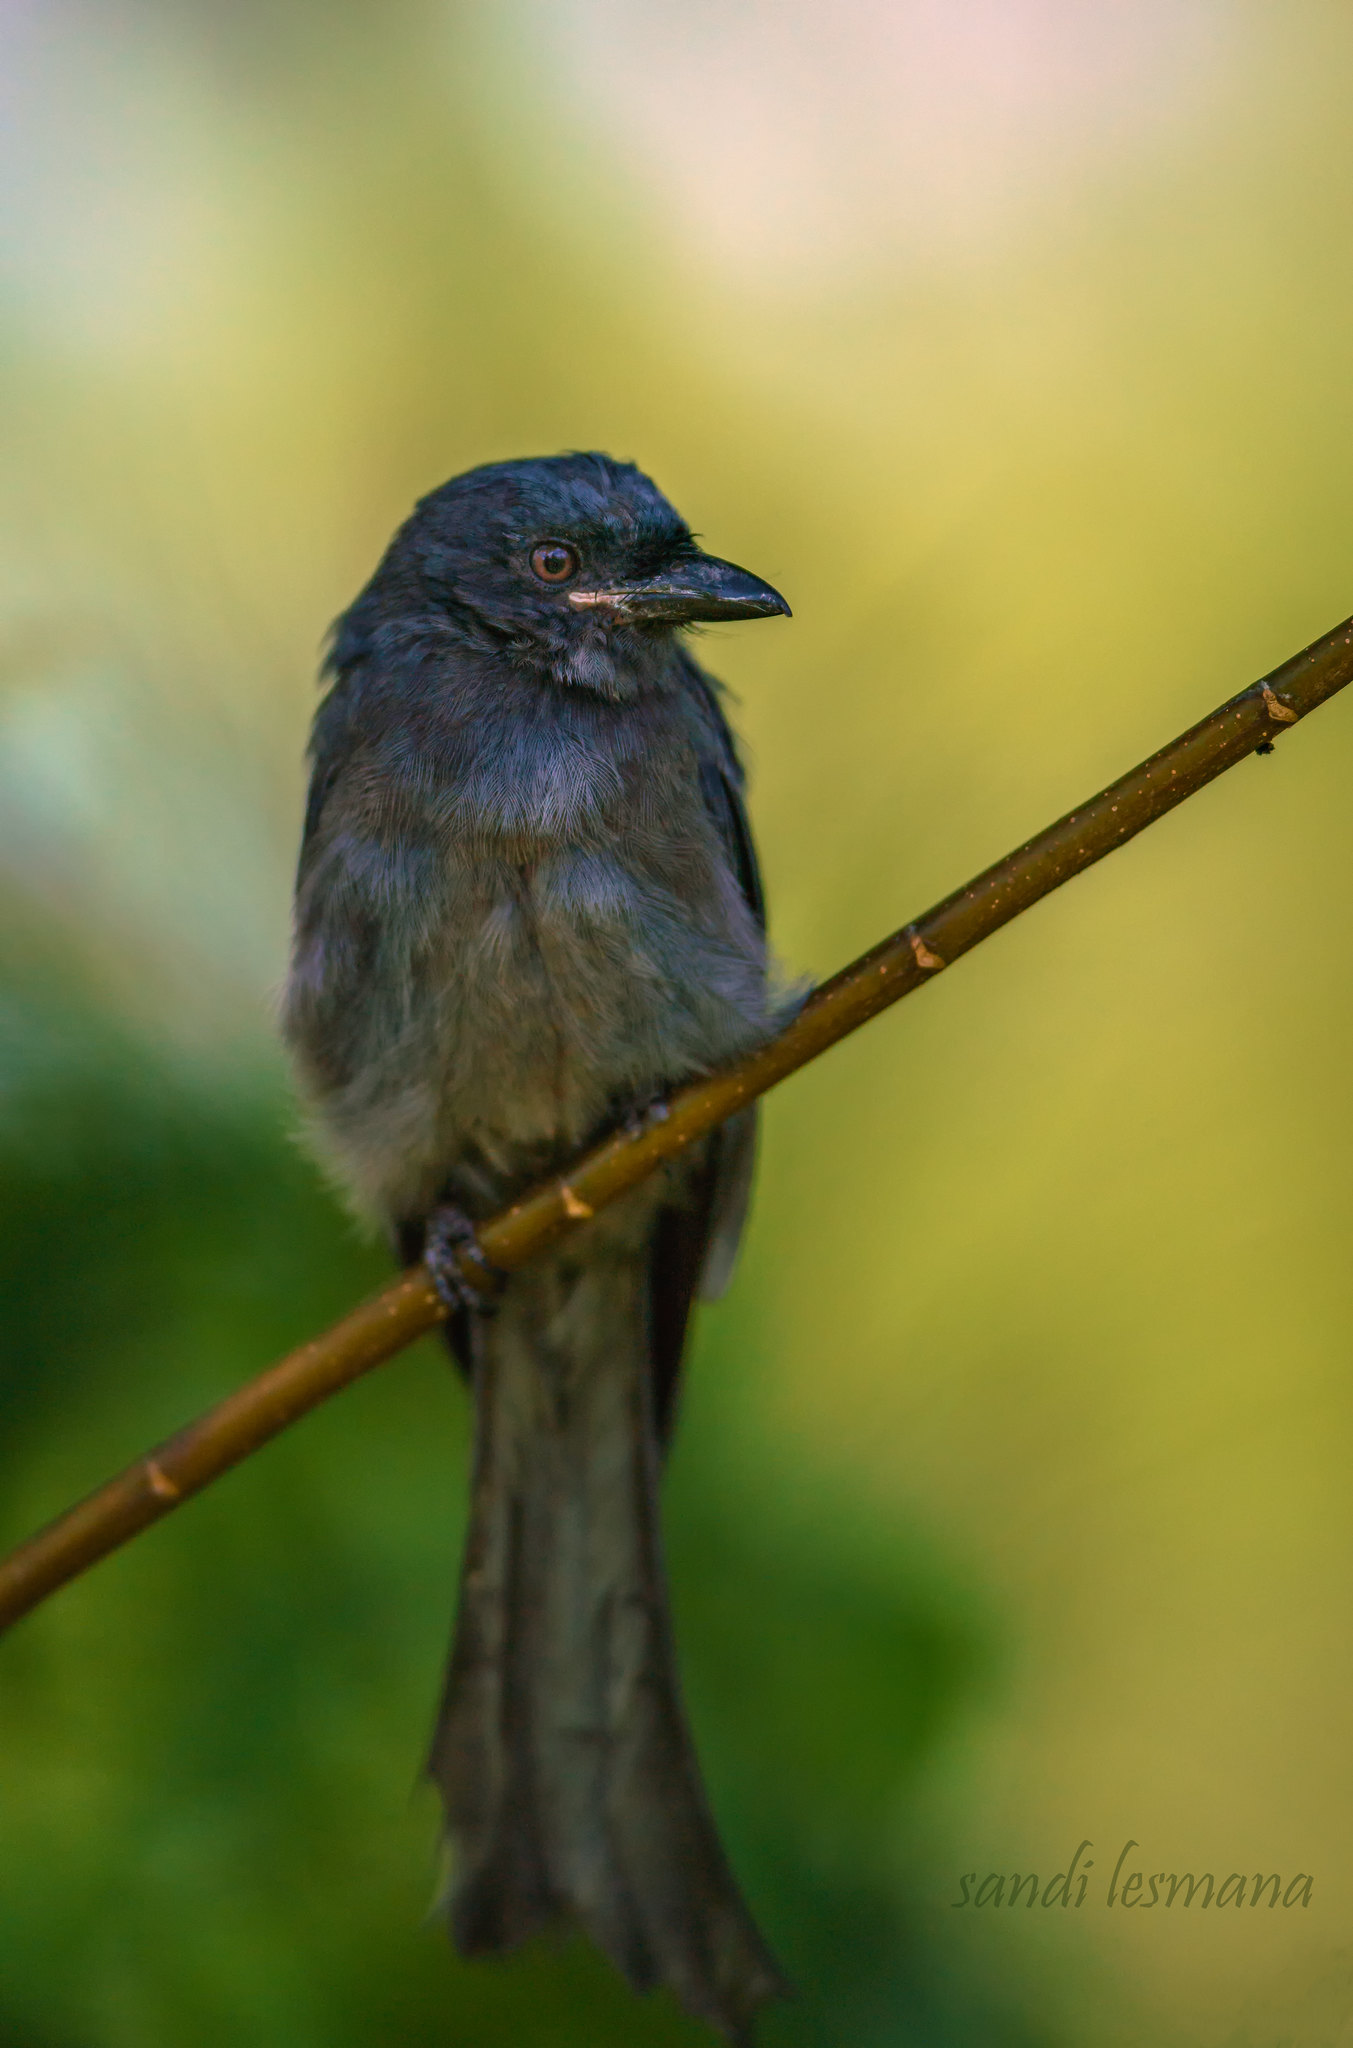bird: (285, 432, 817, 2010)
